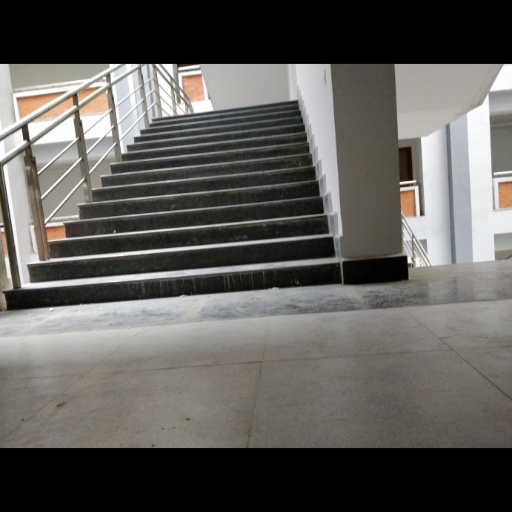Stairs: (6, 101, 340, 309)
